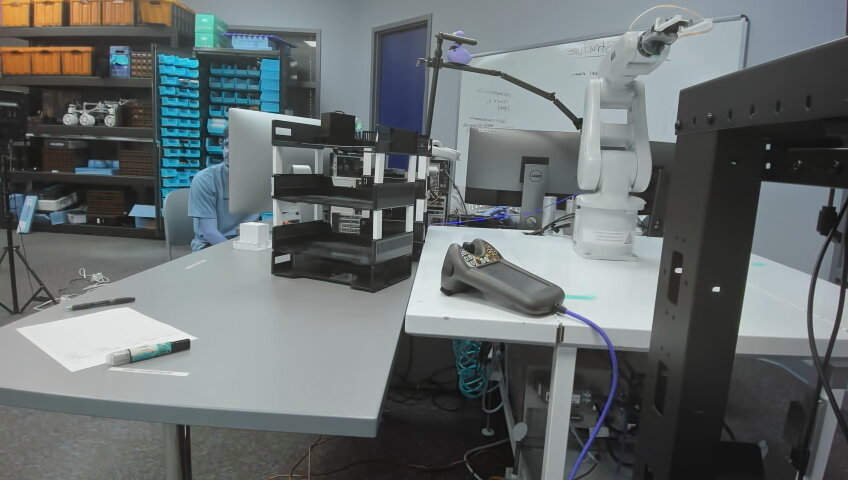black pallet: (310, 108, 360, 145)
